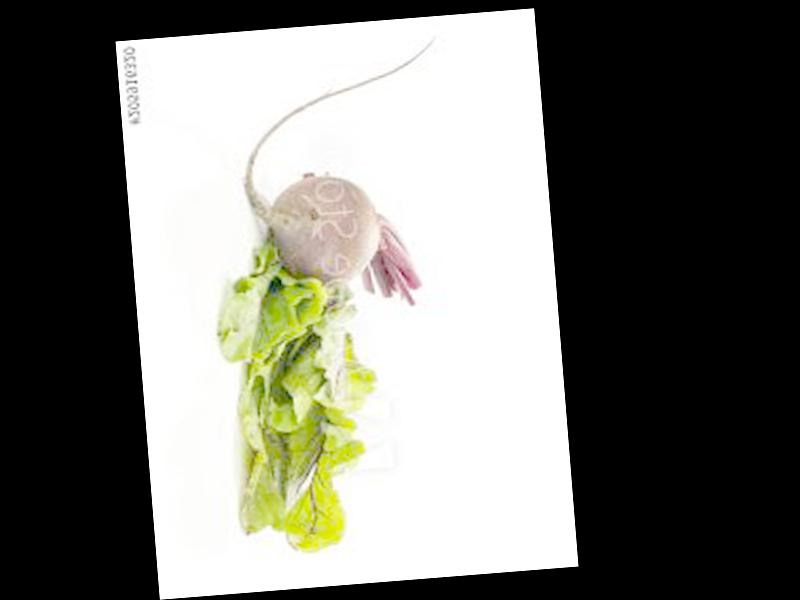Beet: (233, 34, 458, 322)
